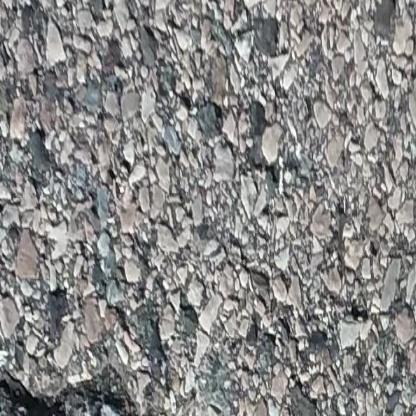Cracks: (0, 359, 193, 416)
